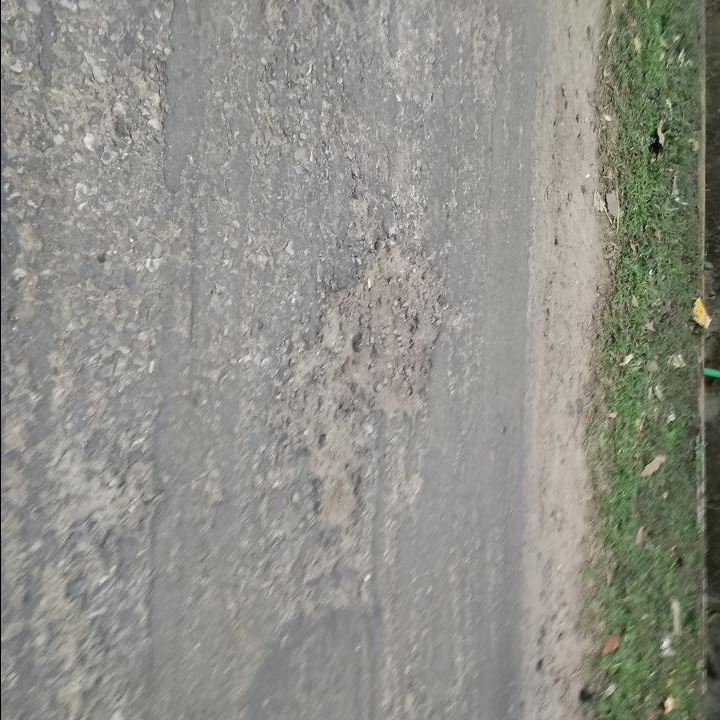pothole: (282, 232, 459, 531)
